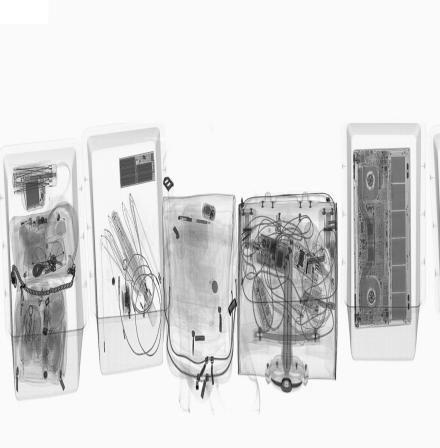Lighter: (13, 216, 32, 234)
